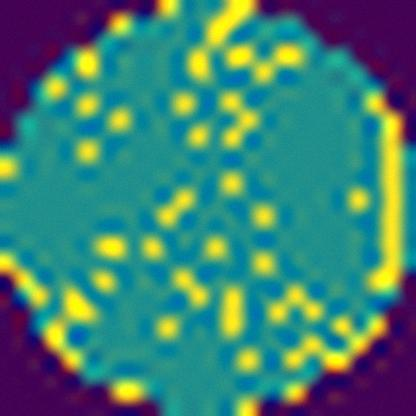Scratch: (350, 84, 408, 312)
